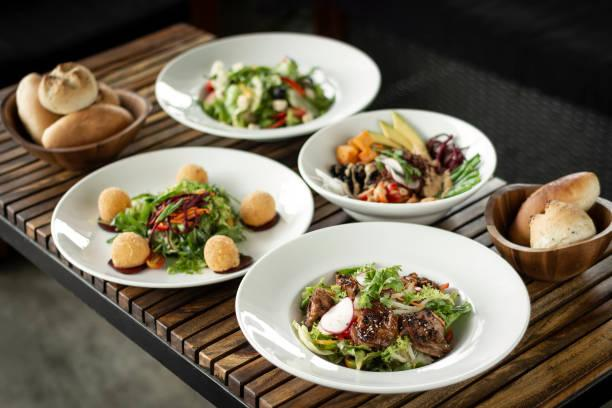Braised Crucian Carp: (235, 221, 529, 395), (47, 147, 314, 286), (156, 34, 381, 136), (298, 106, 499, 209)
